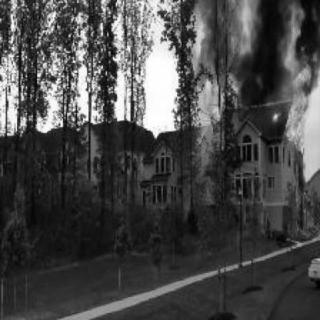Fire: (246, 97, 288, 107)
